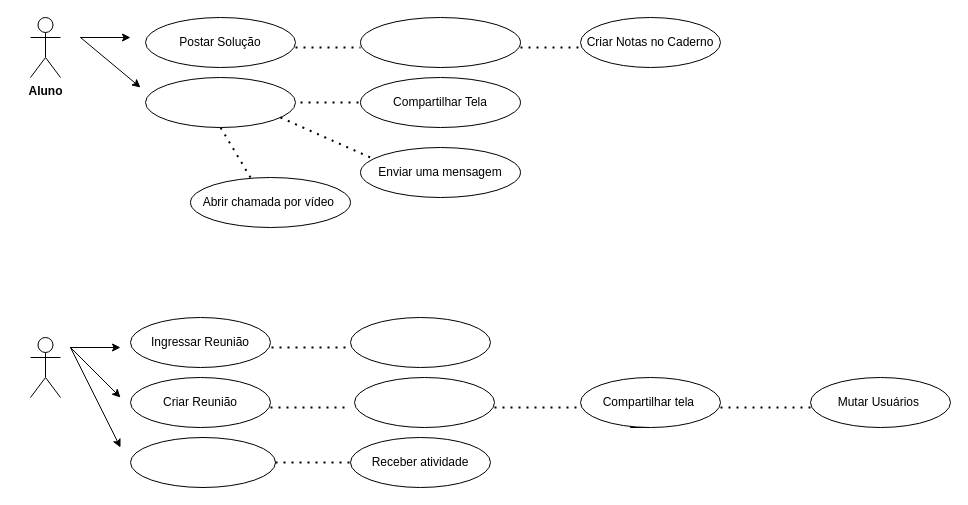
Some shapes in this 968 by 505 pixel diagram are drawn without their labels. The box of each missing label's shape, as (x1, y1, x2, y2) in pixels:
Adicionar Equipes: (350, 316, 490, 368)
Adicionar Pessoas: (354, 376, 494, 428)
Anexar Arquivo: (360, 16, 520, 68)
Criar Atividade: (130, 436, 276, 488)
Ingressar Chamada: (144, 76, 296, 128)
Professor: (30, 336, 60, 398)
